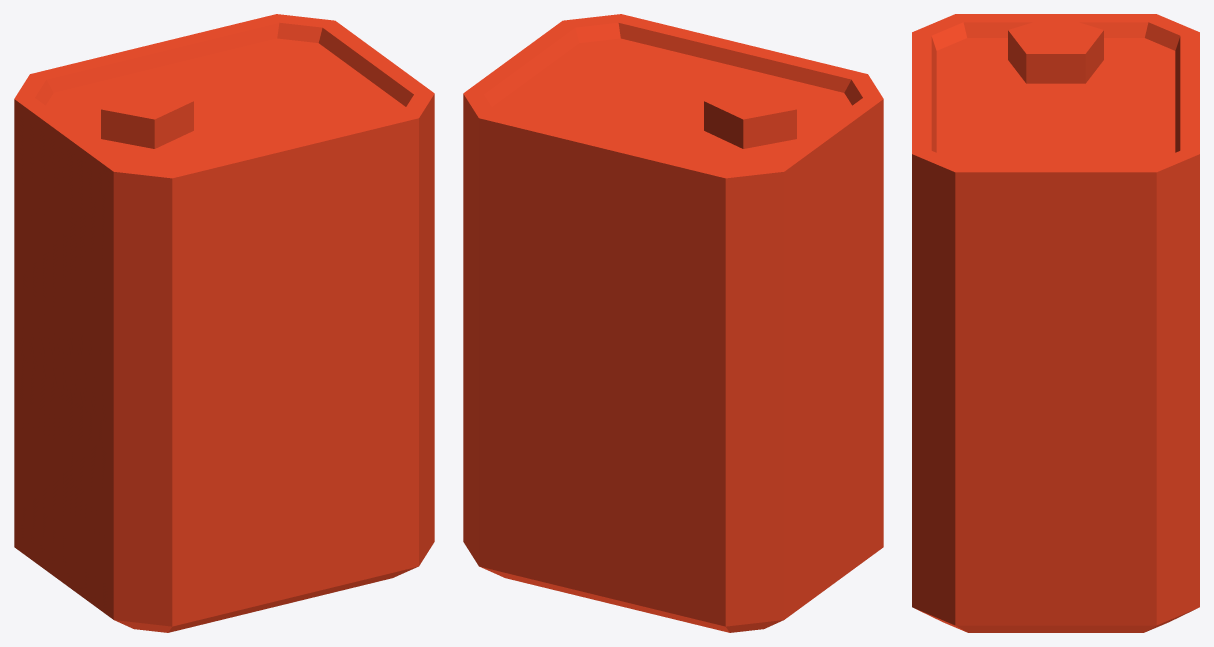
Rendered from SM_Thinner_A_City.fbx.
3 views of the same model, side by side, from view 1: azimuth 30°, elevation 25°; view 2: azimuth 150°, elevation 25°; view 3: azimuth 270°, elevation 25° (orthographic).
Visible parts, largest first — view 1: SM_Thinner_A_City; view 2: SM_Thinner_A_City; view 3: SM_Thinner_A_City.
Boxes of the visible parts, bbox=[...] form: SM_Thinner_A_City: bbox=[14, 14, 434, 632]; SM_Thinner_A_City: bbox=[463, 14, 883, 632]; SM_Thinner_A_City: bbox=[912, 14, 1199, 632].
Size of the model in its own units: 0.1608 by 0.2321 by 0.1235.
